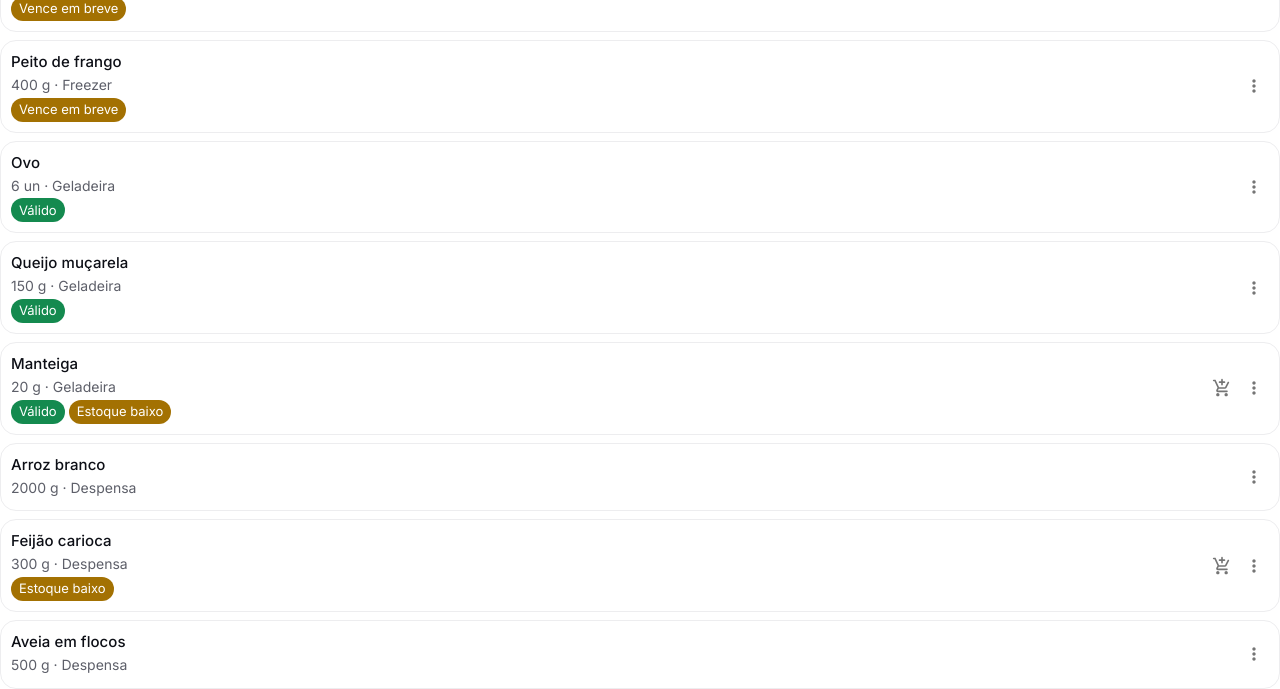
Test: PantryPage › marks an item as out via the row menu and sends it to the shopping list
(page scrolled)
Expected: the text "Arroz branco" is shown, top-left (11, 455), bottom-right (106, 474)
Click the button named "Mais ações" in the row of "Arroz branco": (1254, 477) top-left (1239, 462), bottom-right (1269, 492)
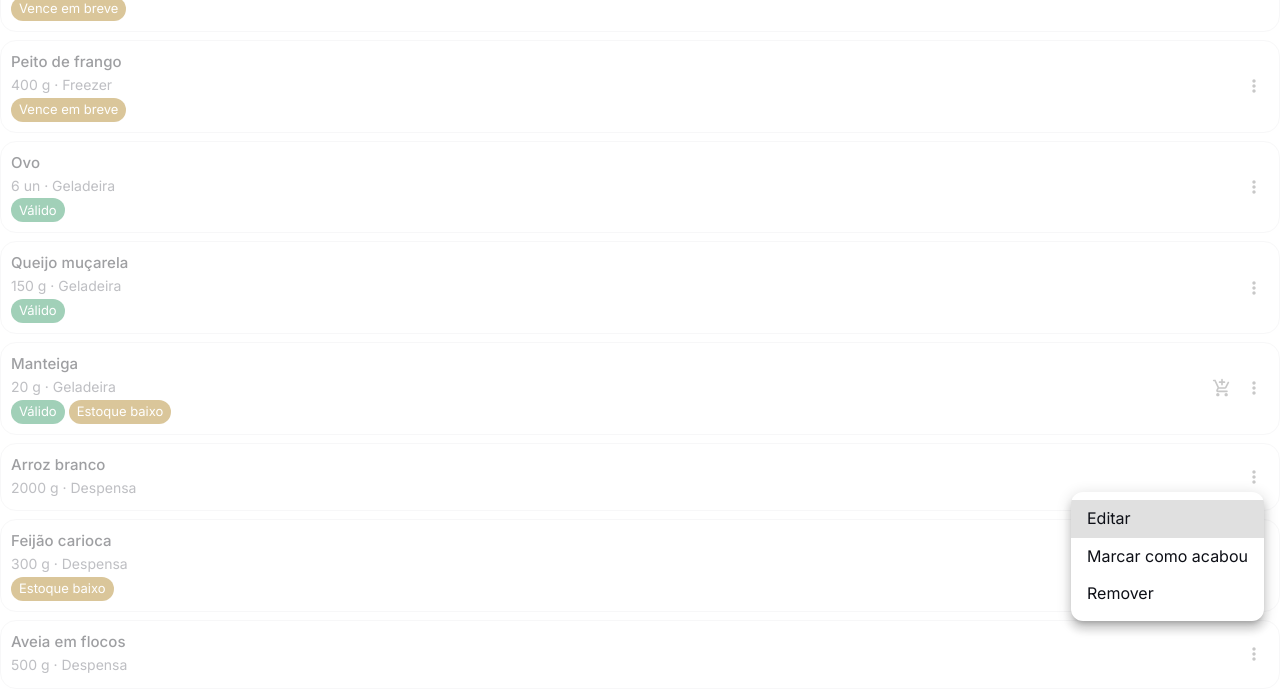
Click the menu item "Marcar como acabou": (1168, 556) top-left (1087, 546), bottom-right (1248, 566)
(page scrolled)
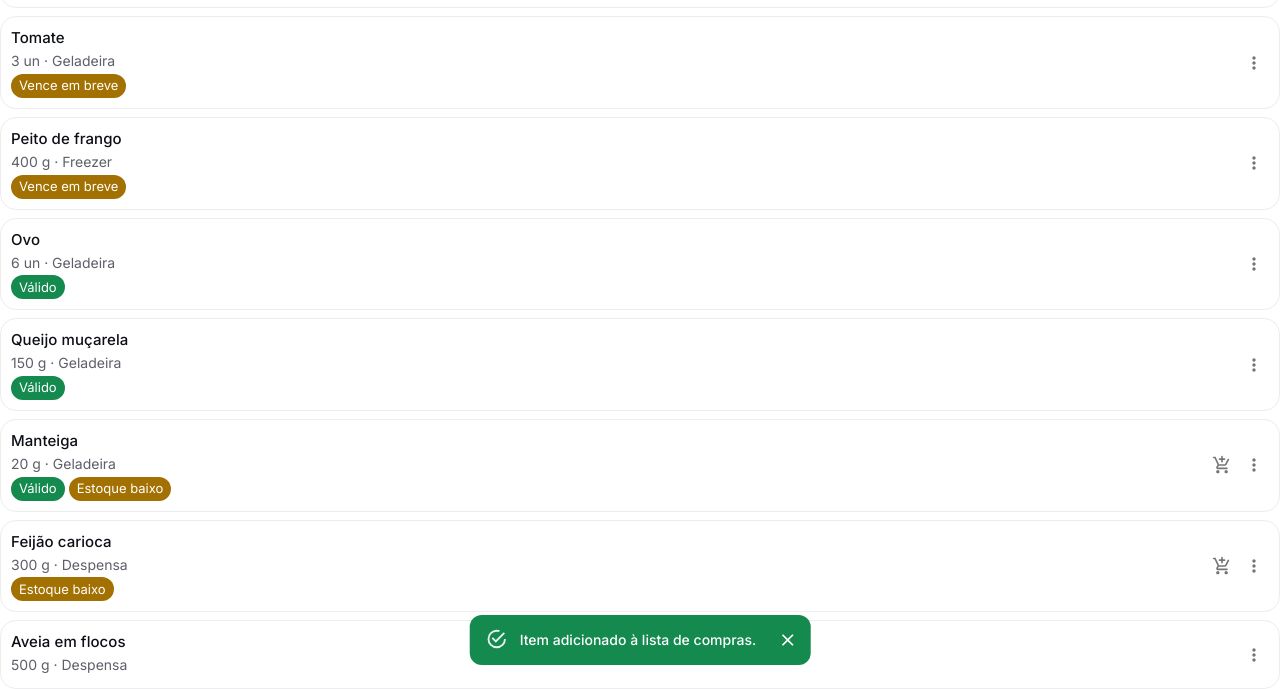
Now the text "Item adicionado à lista de compras." is shown, box top-left (520, 631), bottom-right (756, 648)
